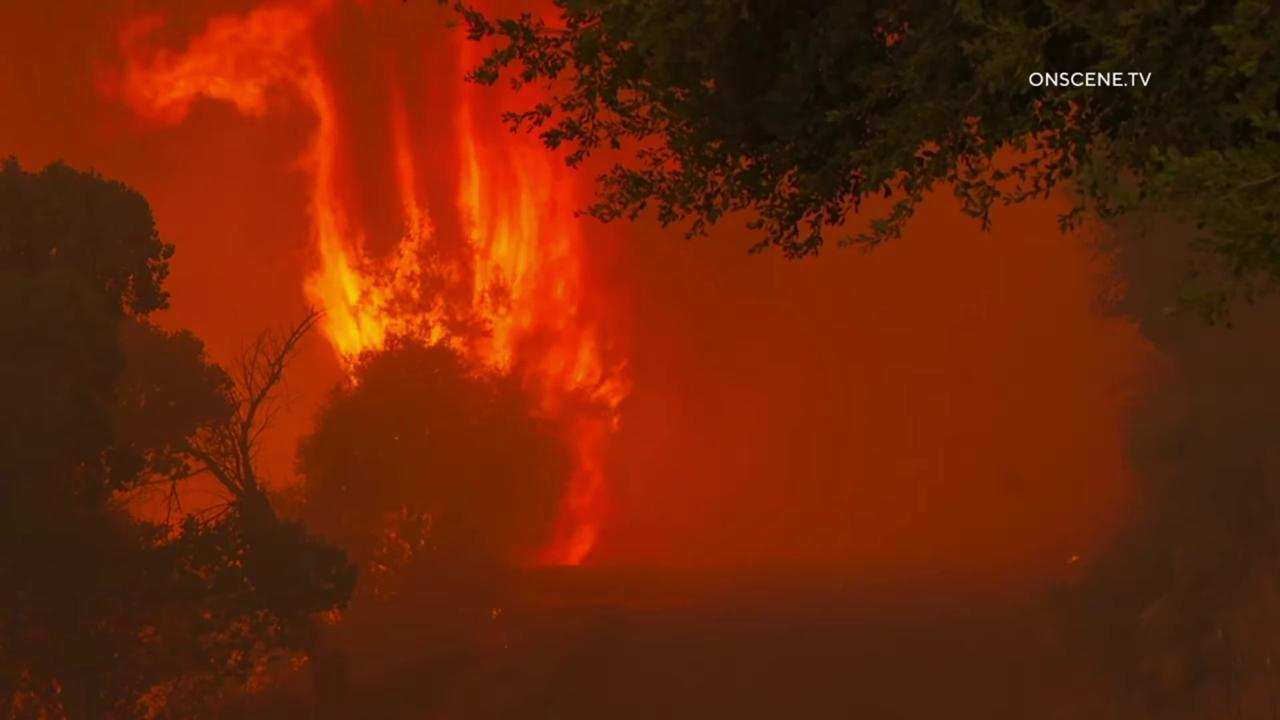fire: (87, 0, 642, 574)
smoke: (0, 0, 1280, 720)
